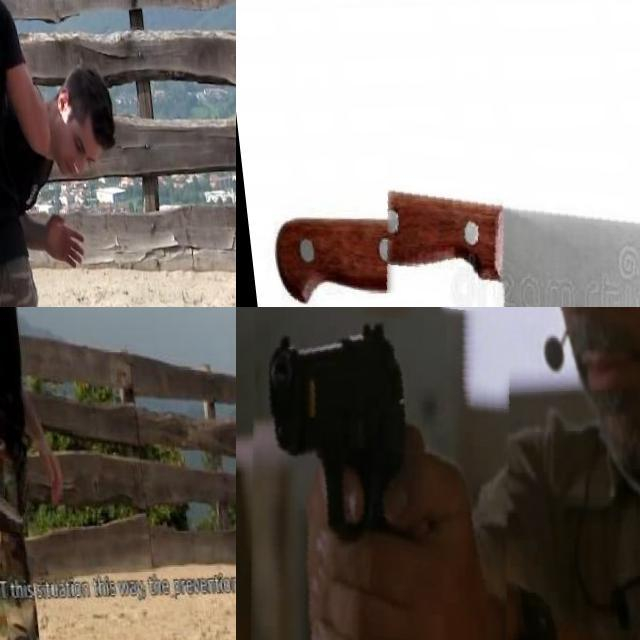-: (358, 124, 640, 307), (0, 450, 43, 533), (0, 86, 22, 199)
gun-knife-thesis - v11 Yolov5 augmented: (236, 307, 525, 640)
